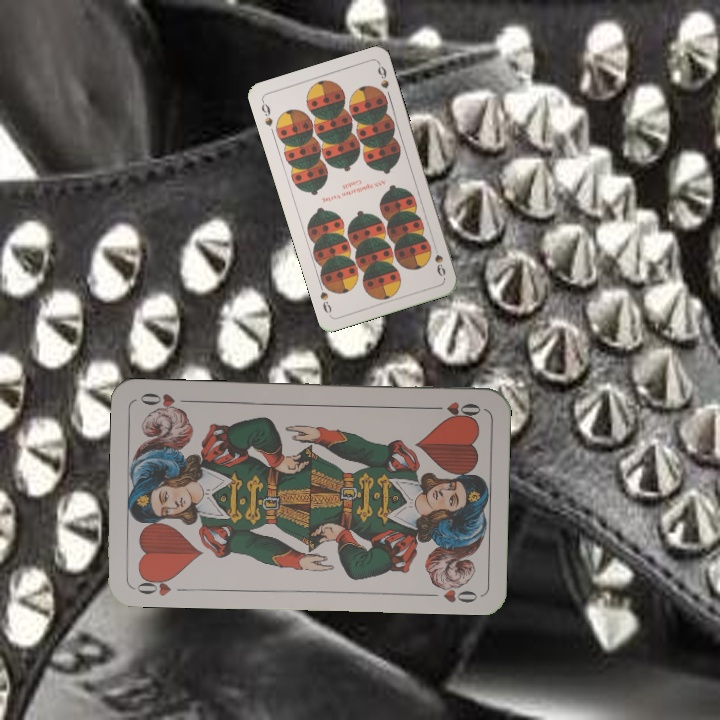HO: (426, 397, 484, 420), (132, 571, 179, 599)
S9: (429, 240, 448, 279), (257, 96, 276, 129)
